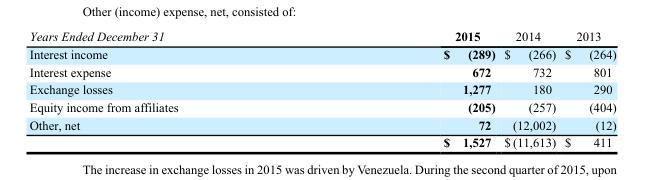table: (28, 28, 615, 149)
table column: (28, 28, 310, 149), (310, 28, 499, 149), (499, 28, 559, 149), (559, 28, 615, 149)
table column header: (28, 28, 615, 44)
table row: (28, 44, 615, 62), (28, 62, 615, 80), (28, 97, 615, 115), (28, 115, 615, 133), (28, 80, 615, 97), (28, 28, 615, 44), (28, 133, 615, 149)
